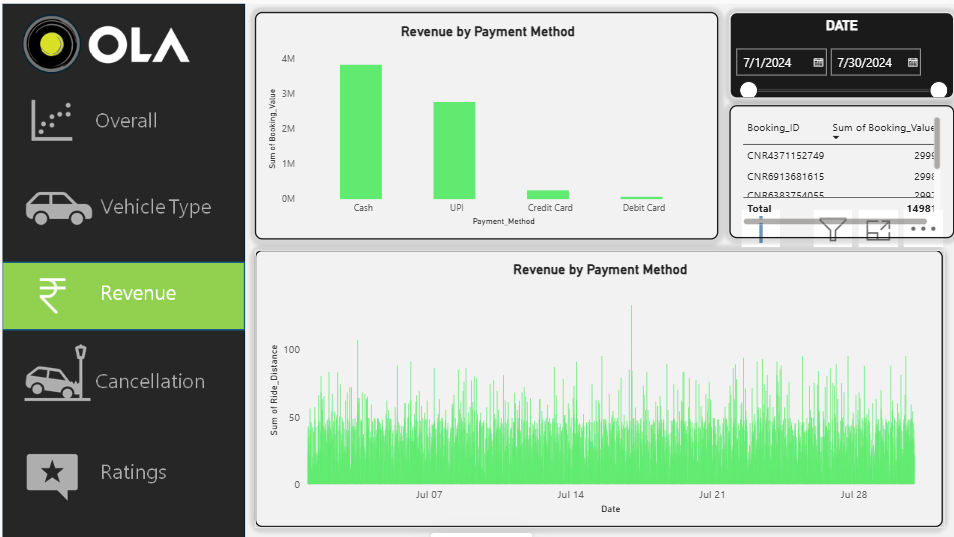

The dashboard page shown, as its layout file describes it:
{"tool":"powerbi","page":{"name":"Revenue","canvas":[1920,1080],"ordinal":2},"visuals":[{"type":"actionButton","box":[323.3,397.7,318.6,90.7],"z":0},{"type":"actionButton","box":[320.9,620.9,318.6,90.7],"z":1000},{"type":"actionButton","box":[320.9,762.8,318.6,90.7],"z":2000},{"type":"actionButton","box":[323.3,286,318.6,90.7],"z":3000},{"type":"columnChart","title":"Revenue by Payment Method","fields":{"Y":["Sum(July.Booking_Value)"],"Category":["July.Payment_Method"]},"box":[658,186,618.5,303.7],"z":4000},{"type":"columnChart","title":"Revenue by Payment Method","fields":{"Y":["Sum(July.Ride_Distance)"],"Category":["July.Date"]},"box":[658.3,505,918.3,370],"z":5000},{"type":"slicer","title":"DATE","fields":{"Values":["July.Date"]},"box":[1290,186,300,116],"z":6000},{"type":"tableEx","fields":{"Values":["July.Booking_ID","Sum(July.Booking_Value)"]},"box":[1290.7,311.1,300,177.8],"z":7000}]}

Visuals, with their boxes on the page's 1920x1080 design canvas (x1, y1, x2, y2). These are canvas units, not pixel positions in the 954x537 screenshot, which may show the page scaled, cropped or inside an application window:
actionButton: <bbox>323, 398, 642, 488</bbox>
actionButton: <bbox>321, 621, 640, 712</bbox>
actionButton: <bbox>321, 763, 640, 854</bbox>
actionButton: <bbox>323, 286, 642, 377</bbox>
"Revenue by Payment Method" columnChart: <bbox>658, 186, 1276, 490</bbox>
"Revenue by Payment Method" columnChart: <bbox>658, 505, 1577, 875</bbox>
"DATE" slicer: <bbox>1290, 186, 1590, 302</bbox>
tableEx - July.Booking_ID x Sum(July.Booking_Value): <bbox>1291, 311, 1591, 489</bbox>
